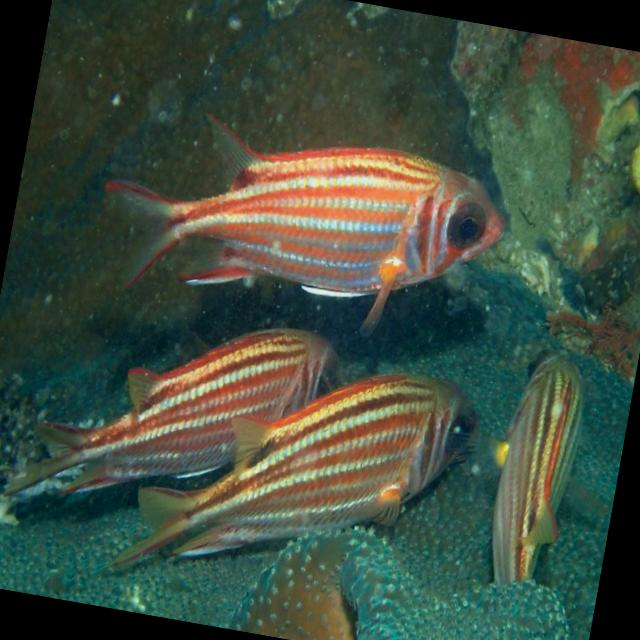Asker Baligi: (0, 286, 496, 637), (73, 64, 528, 375), (464, 330, 606, 607)
